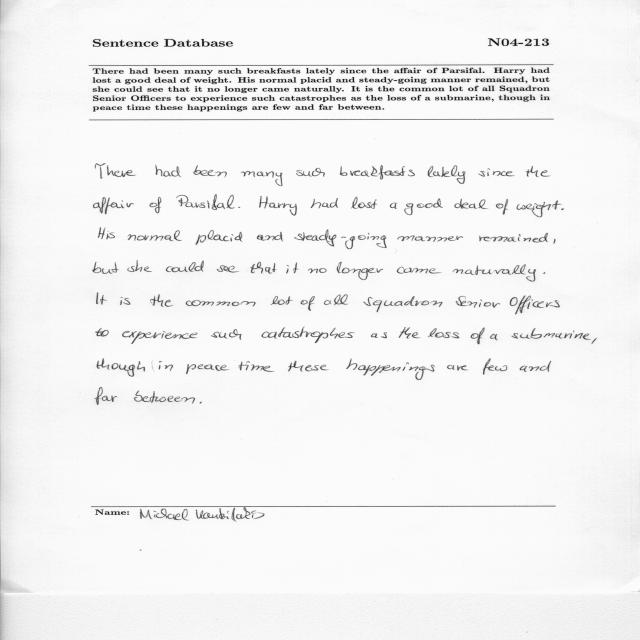word: (346, 358, 435, 380), (294, 229, 387, 249), (262, 327, 355, 343), (453, 265, 536, 282), (363, 296, 443, 312), (340, 165, 415, 180), (122, 331, 198, 344), (511, 328, 591, 340), (510, 296, 560, 315), (176, 195, 235, 210), (97, 359, 145, 377), (337, 262, 383, 280), (134, 391, 195, 404), (517, 201, 562, 218), (259, 196, 297, 215), (428, 165, 465, 184), (94, 197, 135, 214), (196, 230, 242, 245), (479, 233, 548, 243), (404, 199, 443, 216), (95, 164, 136, 179), (241, 171, 282, 186), (128, 230, 182, 241), (456, 296, 500, 308), (186, 300, 256, 307), (288, 361, 329, 372), (193, 165, 227, 178), (186, 364, 229, 374), (166, 261, 204, 272), (483, 358, 507, 375), (397, 236, 463, 242), (239, 361, 275, 372), (95, 387, 117, 405), (211, 329, 242, 340), (520, 361, 551, 372), (454, 199, 488, 209), (478, 168, 515, 177), (351, 197, 378, 209), (155, 165, 181, 177), (93, 262, 119, 274), (428, 328, 459, 338), (397, 267, 441, 274), (127, 260, 152, 272), (150, 294, 173, 307), (250, 262, 277, 273), (311, 198, 338, 208), (526, 166, 550, 177), (324, 295, 348, 306), (296, 168, 325, 177), (257, 232, 283, 242), (471, 328, 485, 345), (399, 327, 420, 338), (301, 296, 315, 311), (99, 228, 116, 240), (271, 296, 293, 305), (150, 197, 162, 213), (496, 199, 508, 215), (217, 266, 239, 273), (158, 361, 173, 371), (286, 263, 298, 274), (447, 365, 468, 371), (97, 293, 107, 304), (96, 328, 109, 336), (371, 333, 387, 339), (308, 268, 327, 273), (120, 297, 130, 305), (390, 202, 397, 209), (490, 334, 498, 340), (592, 338, 597, 344), (554, 239, 556, 244), (561, 208, 564, 210), (199, 402, 202, 404), (543, 272, 545, 274), (239, 207, 241, 208)
